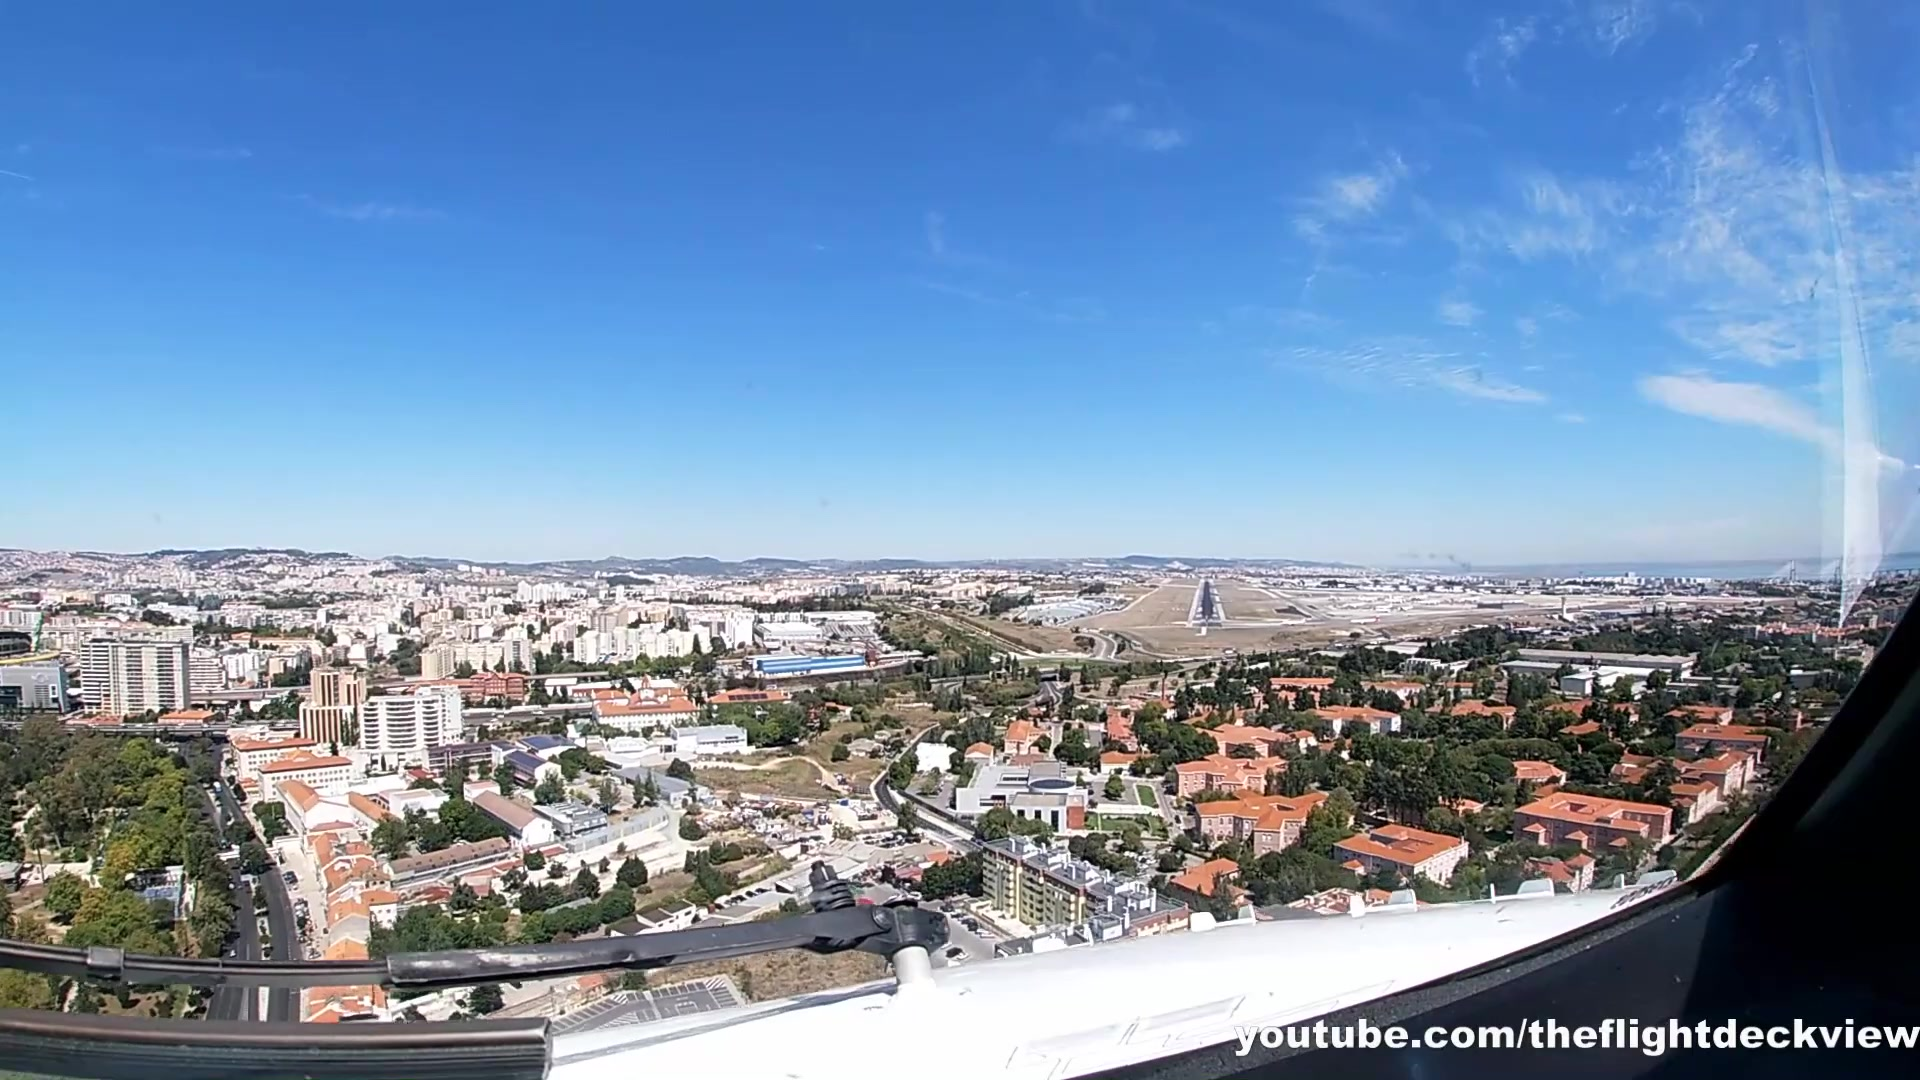runway: (1183, 582, 1232, 628)
